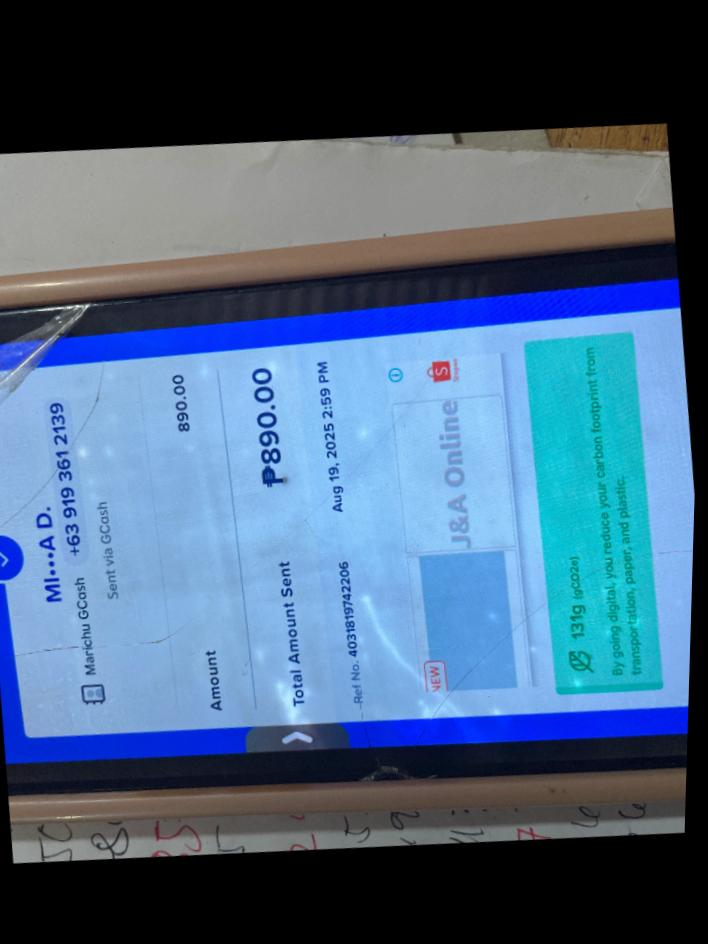Receipt: (0, 278, 695, 759)
